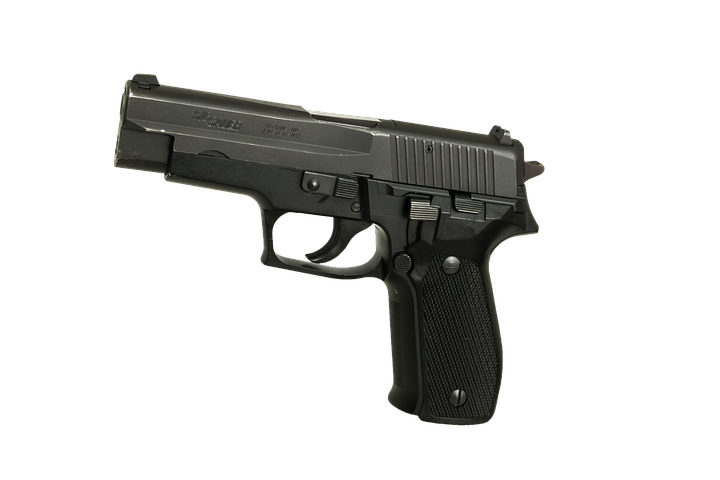gun: (110, 66, 557, 439)
